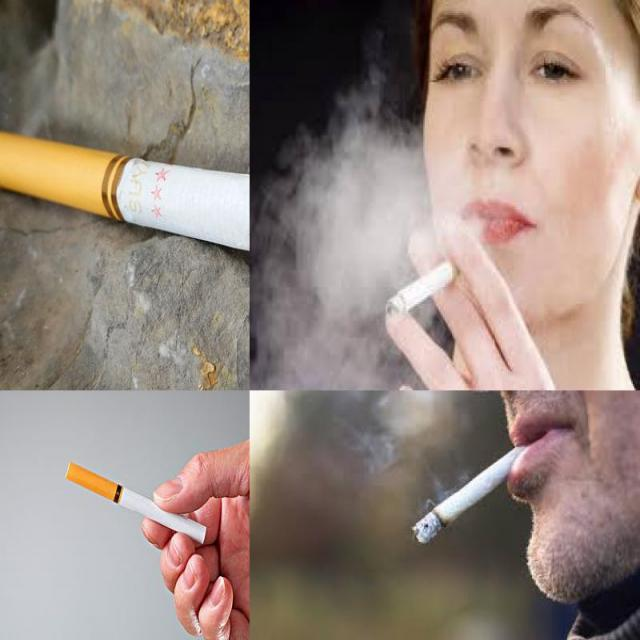smoke: (0, 126, 249, 278), (412, 437, 542, 545), (63, 459, 207, 546), (386, 255, 464, 319)
